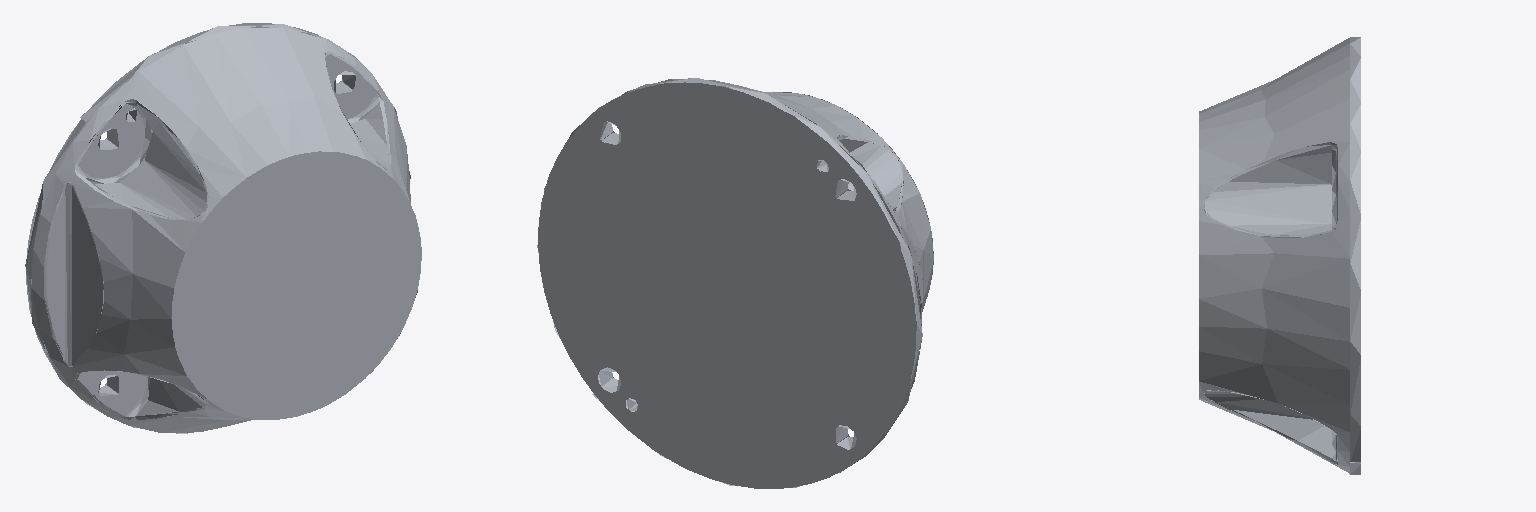
3 renders of one model, left to right at view 1: azimuth 30°, elevation 25°; view 2: azimuth 150°, elevation 25°; view 3: azimuth 270°, elevation 25°, orthographic.
Parts seen in each view (by area): view 1: tm5_base; view 2: tm5_base; view 3: tm5_base.
Part boxes in pixels (x1,y1,x2,y2): tm5_base: (25,23,421,433); tm5_base: (537,78,933,488); tm5_base: (1199,37,1360,474).
Size of the model in its own units: 0.1777 by 0.1781 by 0.066.